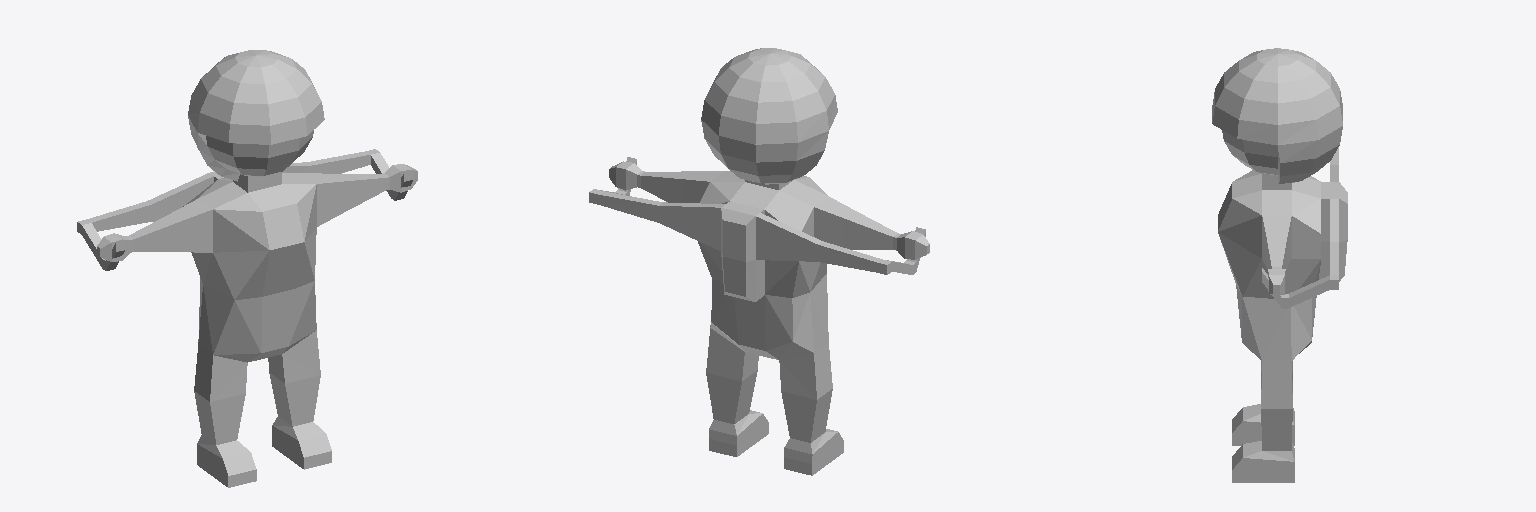
Rendered from blenderTri1.obj.
3 renders of one model, left to right at view 1: azimuth 30°, elevation 25°; view 2: azimuth 150°, elevation 25°; view 3: azimuth 270°, elevation 25°, orthographic.
Parts seen in each view (by area): view 1: polySurface1; view 2: polySurface1; view 3: polySurface1.
Boxes of the visible parts, <box> form: polySurface1: <box>77,50,417,487</box>; polySurface1: <box>589,48,929,475</box>; polySurface1: <box>1212,48,1347,482</box>.
Size of the model in its own units: 12.04 by 14.61 by 4.44.